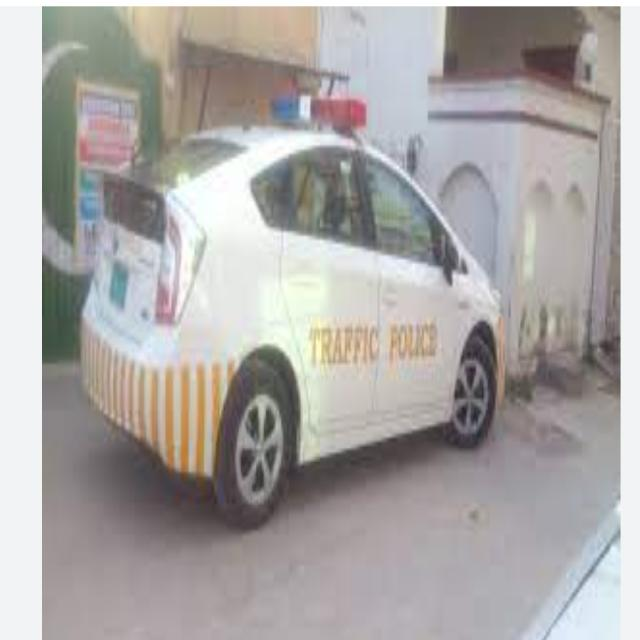police: (96, 127, 525, 499)
